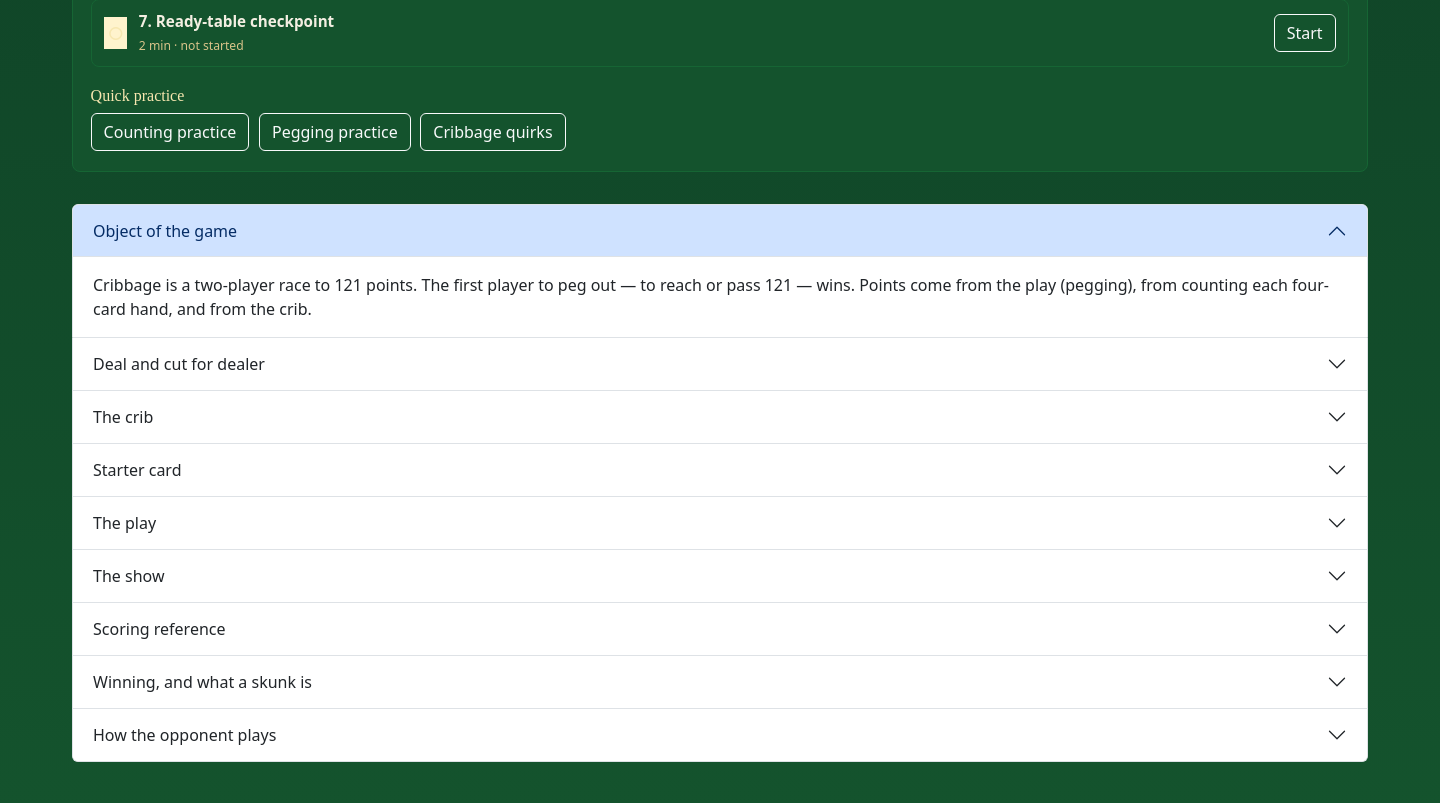
Test case: Learn › renders difficulty copy from the module and the beginner path
(page scrolled)
Click the button "How the opponent plays".
click(185, 735)  # box x1=73 y1=709 x2=1367 y2=761
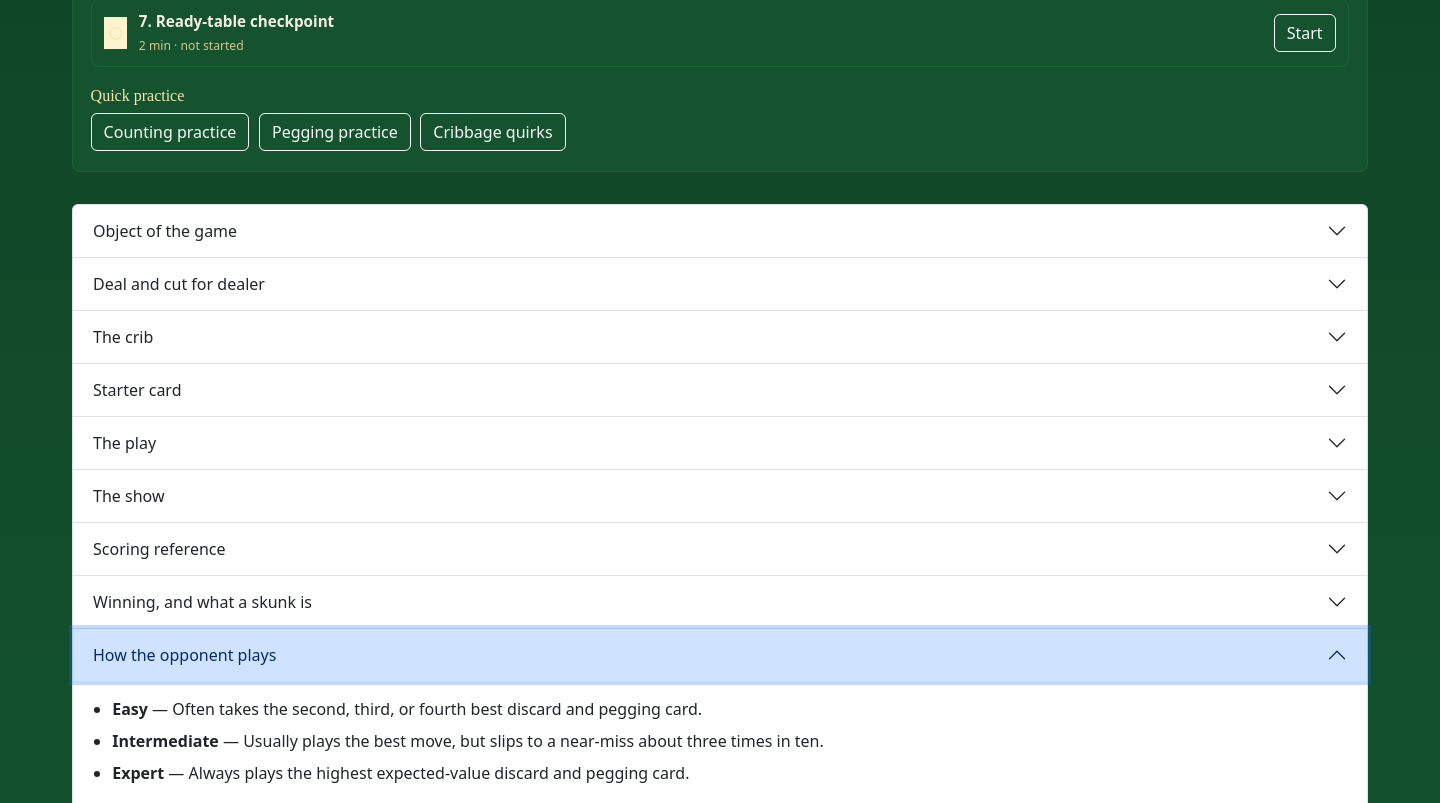
expect the text "Easy" is shown: met, box x1=112 y1=698 x2=148 y2=720
expect the list item "Often takes the second, third, or fourth best discard and pegging card." is shown: met, box x1=172 y1=698 x2=702 y2=720
expect the text "Intermediate" is shown: met, box x1=112 y1=730 x2=219 y2=752
